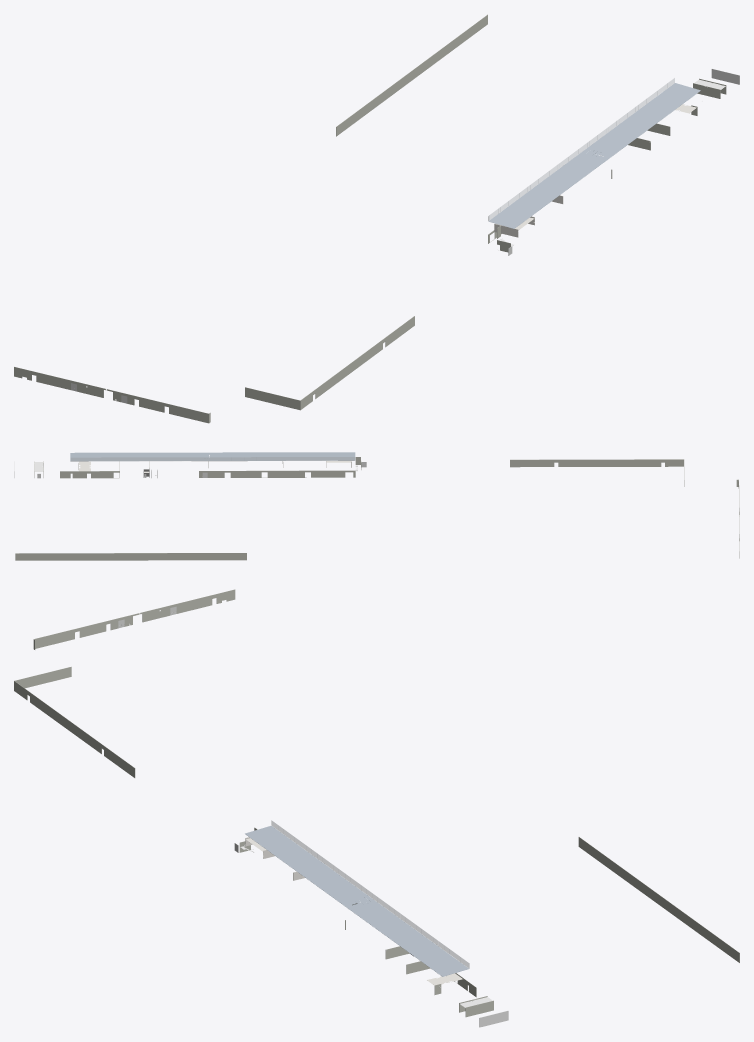
The model's file is pt-108-mantenimiento-mayor-hq.glb.
3 renders of one model, top to bottom at view 1: azimuth 30°, elevation 25°; view 2: azimuth 150°, elevation 25°; view 3: azimuth 270°, elevation 25°, orthographic. The views are drawn at different scales.
Parts seen in each view (by area): view 1: 3RE5FMqT1Eav50ChEst3$N, 3RE5FMqT1Eav50ChEst1BW, 3RE5FMqT1Eav50ChEst1BZ, 3RE5FMqT1Eav50ChEst1Bz; view 2: 3RE5FMqT1Eav50ChEst3$N, 3RE5FMqT1Eav50ChEst1BZ, 3RE5FMqT1Eav50ChEst1Bz, 3RE5FMqT1Eav50ChEst3vn, 3RE5FMqT1Eav50ChEst3vE; view 3: 3RE5FMqT1Eav50ChEst3$N, 3RE5FMqT1Eav50ChEst1BW, 3RE5FMqT1Eav50ChEst1BZ, 3RE5FMqT1Eav50ChEst1Bz.
Part boxes in pixels (x1=…): 3RE5FMqT1Eav50ChEst3$N: x1=488, y1=83, x2=700, y2=228; 3RE5FMqT1Eav50ChEst1BW: x1=14, y1=366, x2=209, y2=423; 3RE5FMqT1Eav50ChEst1BZ: x1=336, y1=14, x2=487, y2=136; 3RE5FMqT1Eav50ChEst1Bz: x1=300, y1=316, x2=414, y2=409; 3RE5FMqT1Eav50ChEst3$N: x1=70, y1=452, x2=355, y2=461; 3RE5FMqT1Eav50ChEst1BZ: x1=15, y1=553, x2=246, y2=560; 3RE5FMqT1Eav50ChEst1Bz: x1=510, y1=459, x2=683, y2=467; 3RE5FMqT1Eav50ChEst3vn: x1=199, y1=470, x2=355, y2=477; 3RE5FMqT1Eav50ChEst3vE: x1=78, y1=471, x2=119, y2=478; 3RE5FMqT1Eav50ChEst3$N: x1=245, y1=826, x2=468, y2=976; 3RE5FMqT1Eav50ChEst1BW: x1=34, y1=589, x2=235, y2=648; 3RE5FMqT1Eav50ChEst1BZ: x1=578, y1=837, x2=739, y2=962; 3RE5FMqT1Eav50ChEst1Bz: x1=14, y1=681, x2=135, y2=777.
Size of the model in its own units: 366 by 11.43 by 262.
